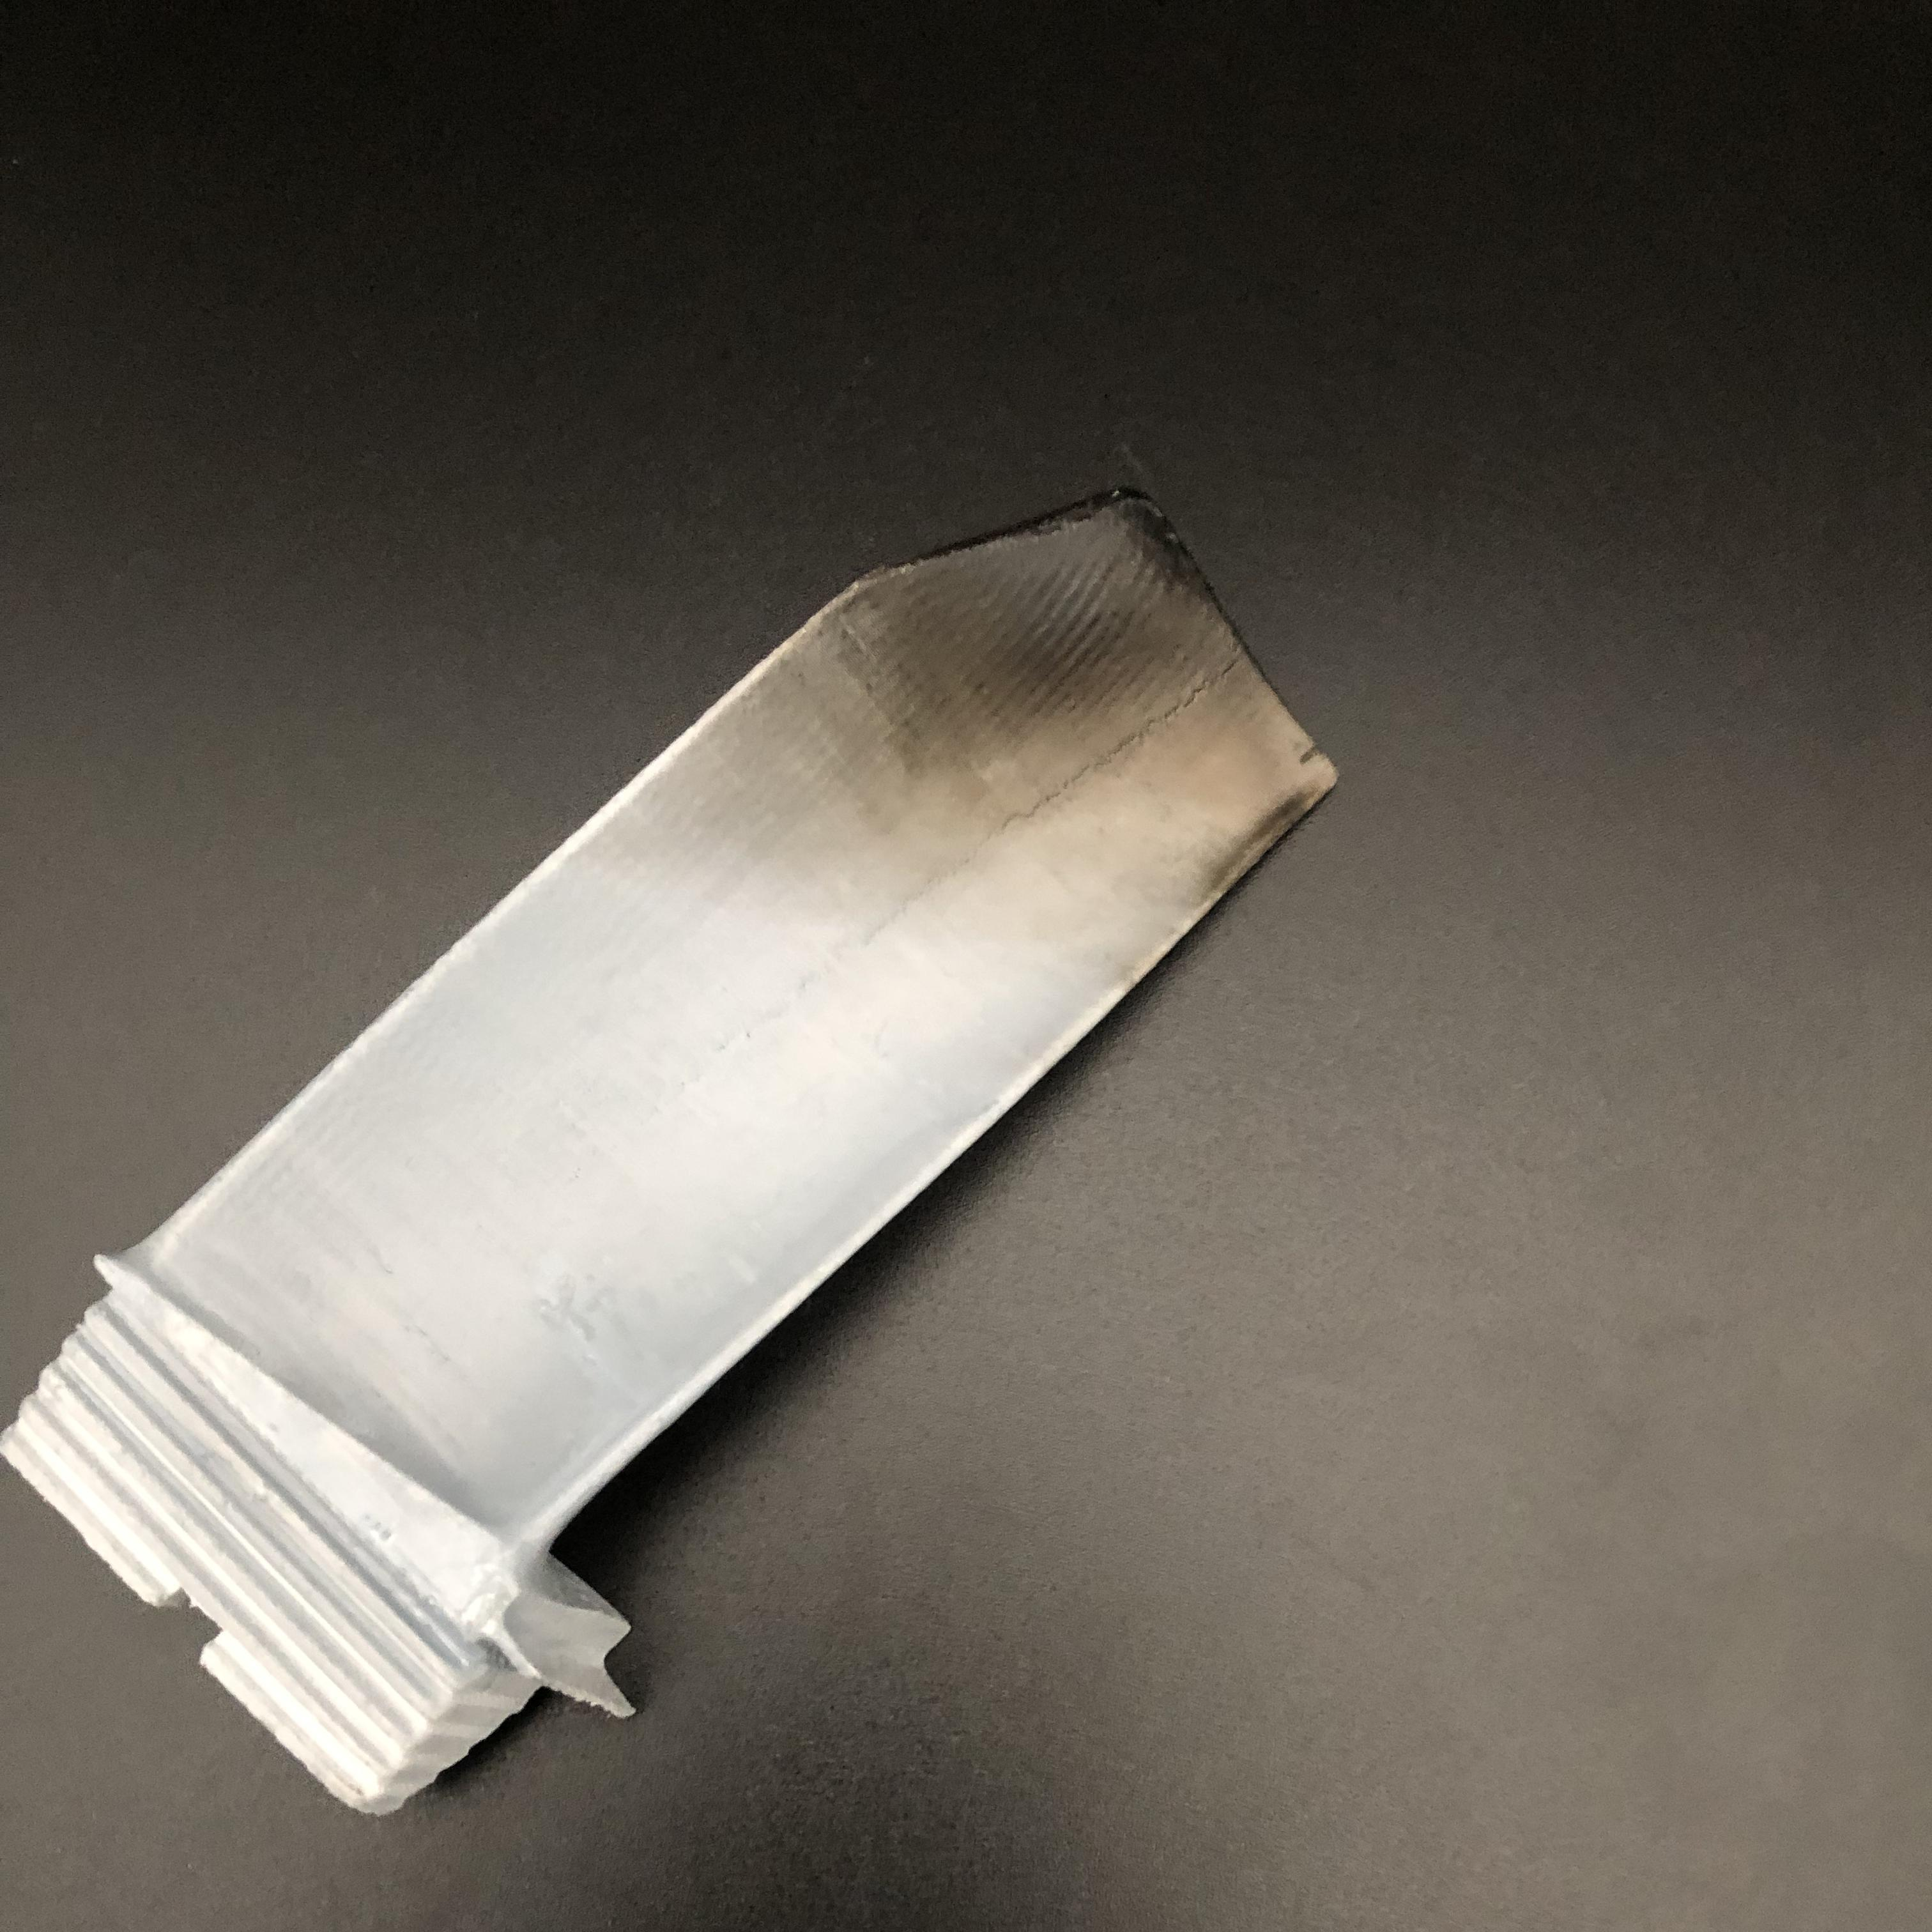ablation: (679, 564, 1290, 904)
